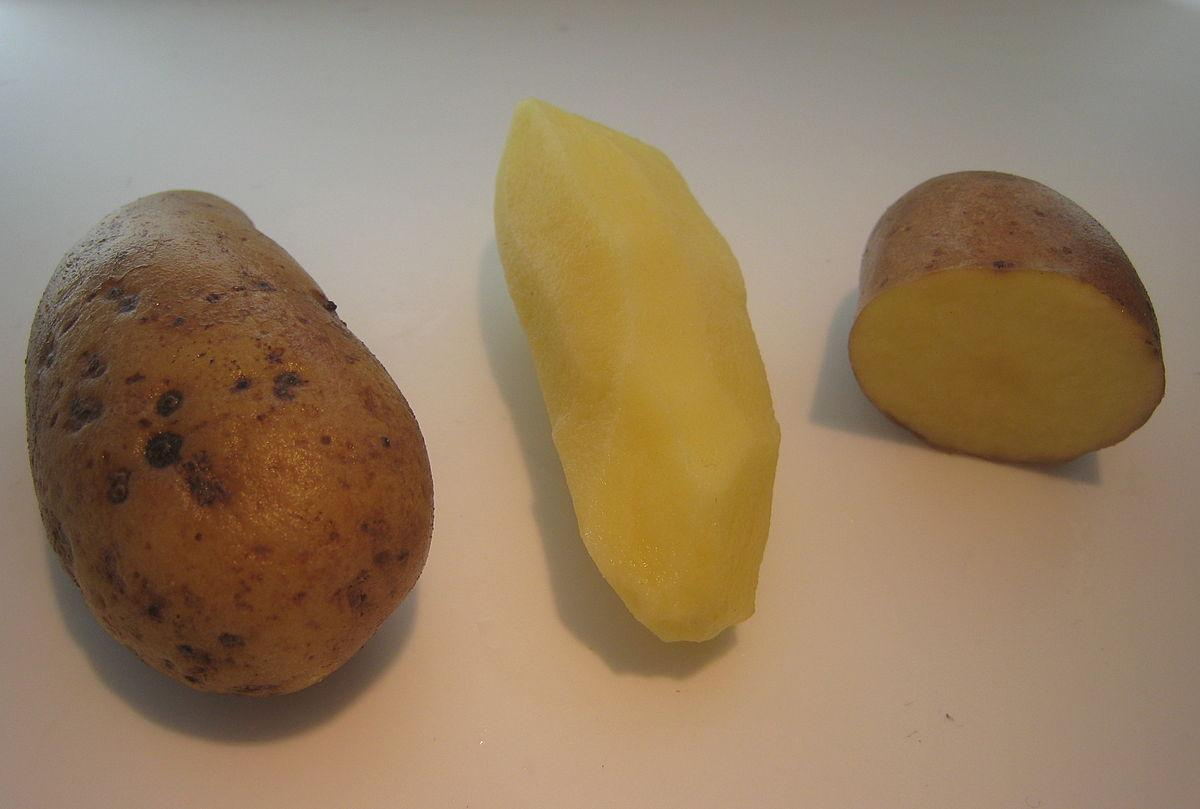peas: (491, 95, 781, 643)
potato: (847, 168, 1166, 465)
sweetpotato: (23, 186, 435, 697)
